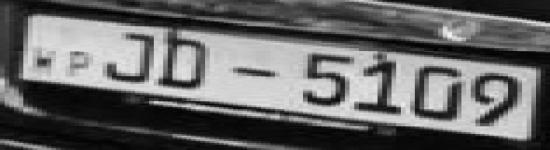-: (230, 63, 285, 82)
0: (408, 60, 468, 123)
1: (354, 53, 407, 116)
5: (299, 50, 360, 108)
9: (467, 68, 527, 128)
D: (154, 36, 214, 91)
J: (103, 27, 157, 85)
P: (64, 49, 96, 78)
W: (27, 46, 57, 74)
